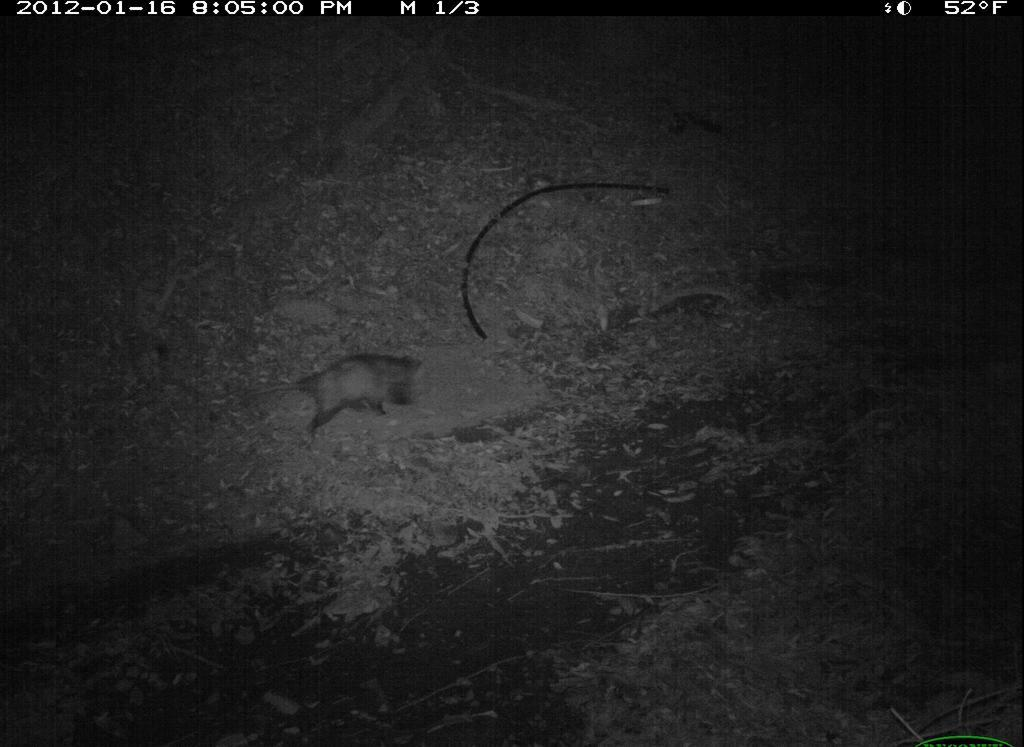opossum: (249, 353, 455, 445)
